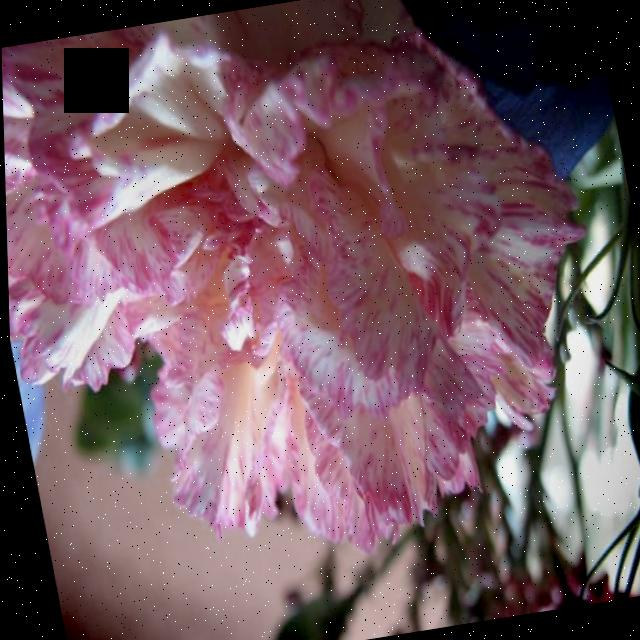carnation: (0, 0, 597, 579)
